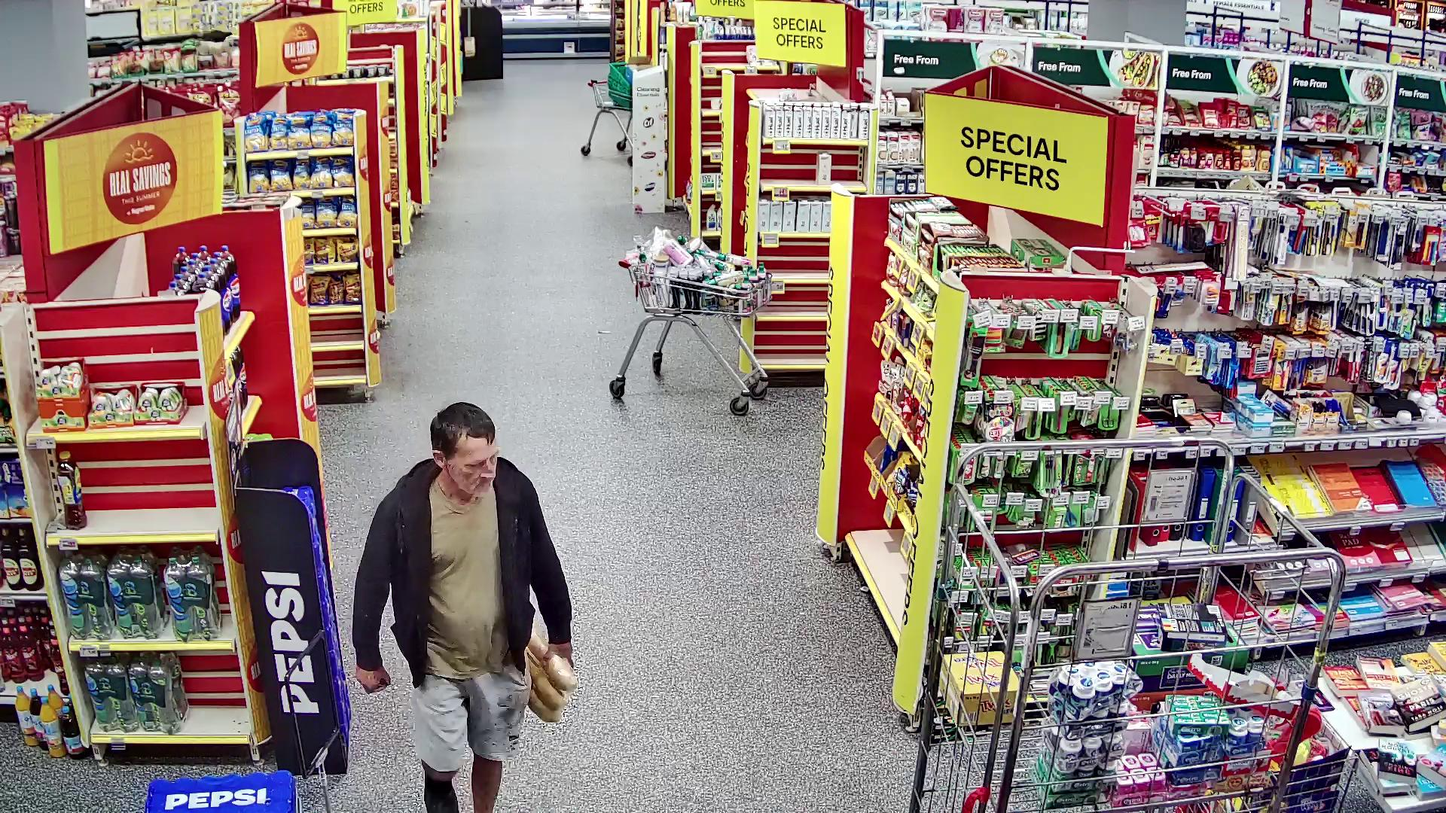carrying-item: (521, 625, 577, 724)
person: (353, 402, 572, 813)
person-with-carrying-item: (353, 402, 578, 812)
